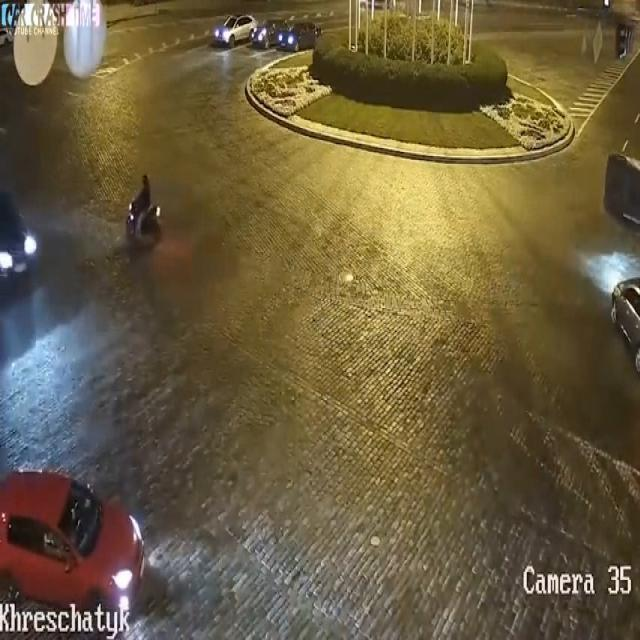Accident: (592, 86, 640, 239)
